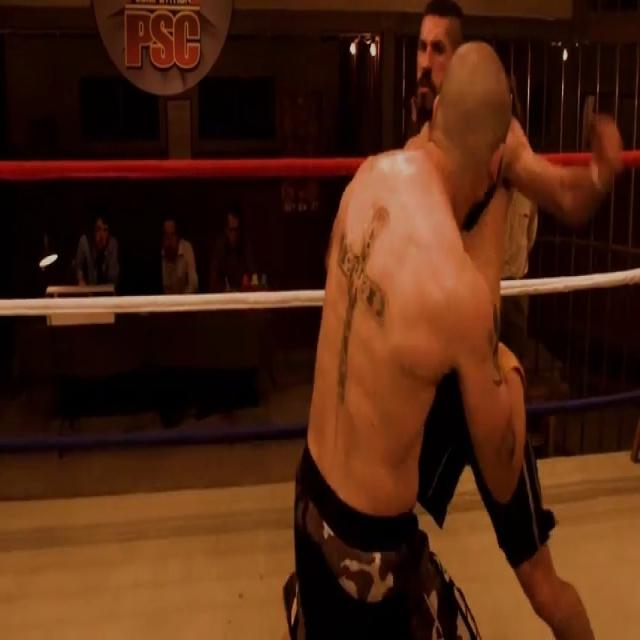fight: (273, 5, 633, 639)
